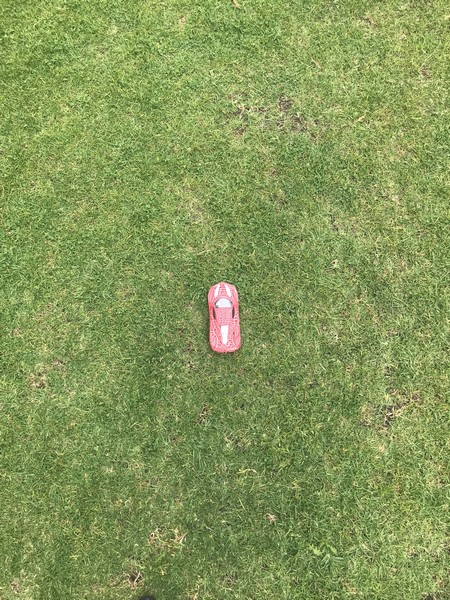RC: (206, 279, 242, 354)
